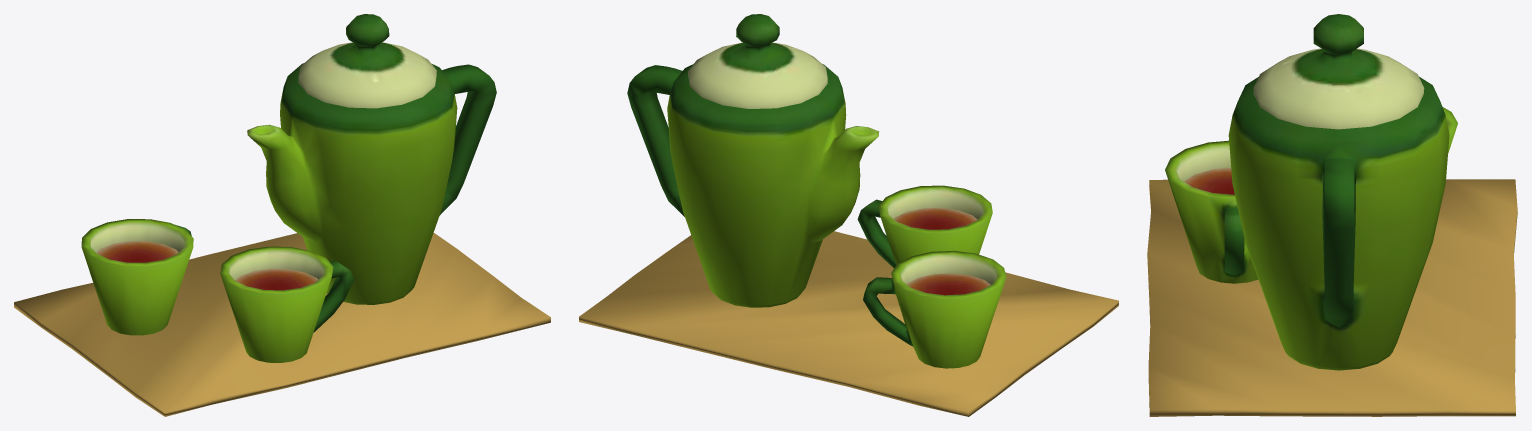
The picture shows the model from 3 angles, left to right: view 1: azimuth 30°, elevation 25°; view 2: azimuth 150°, elevation 25°; view 3: azimuth 270°, elevation 25°; orthographic projection. The views are drawn at different scales.
Bounding box in the file's own units: 7.8 × 5.06 × 5.04.
Materials: 2 (2 with a texture image).
